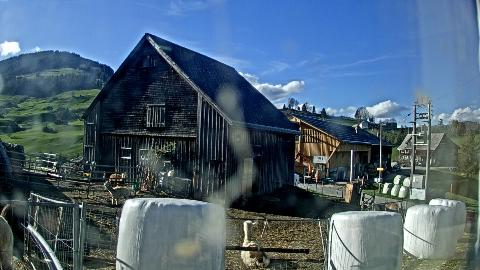car: (391, 166, 401, 174), (418, 160, 426, 166)
sheep: (241, 220, 269, 268), (0, 200, 28, 246), (39, 239, 89, 257), (0, 214, 14, 270), (104, 181, 130, 205), (110, 172, 126, 188), (376, 204, 398, 212), (54, 162, 60, 174)
